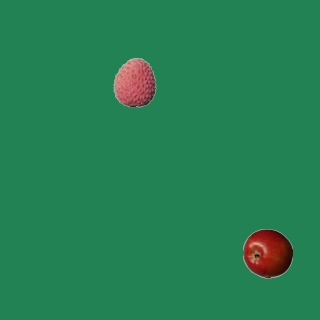Apple Braeburn: (242, 228, 292, 278)
Lychee: (109, 57, 159, 107)
